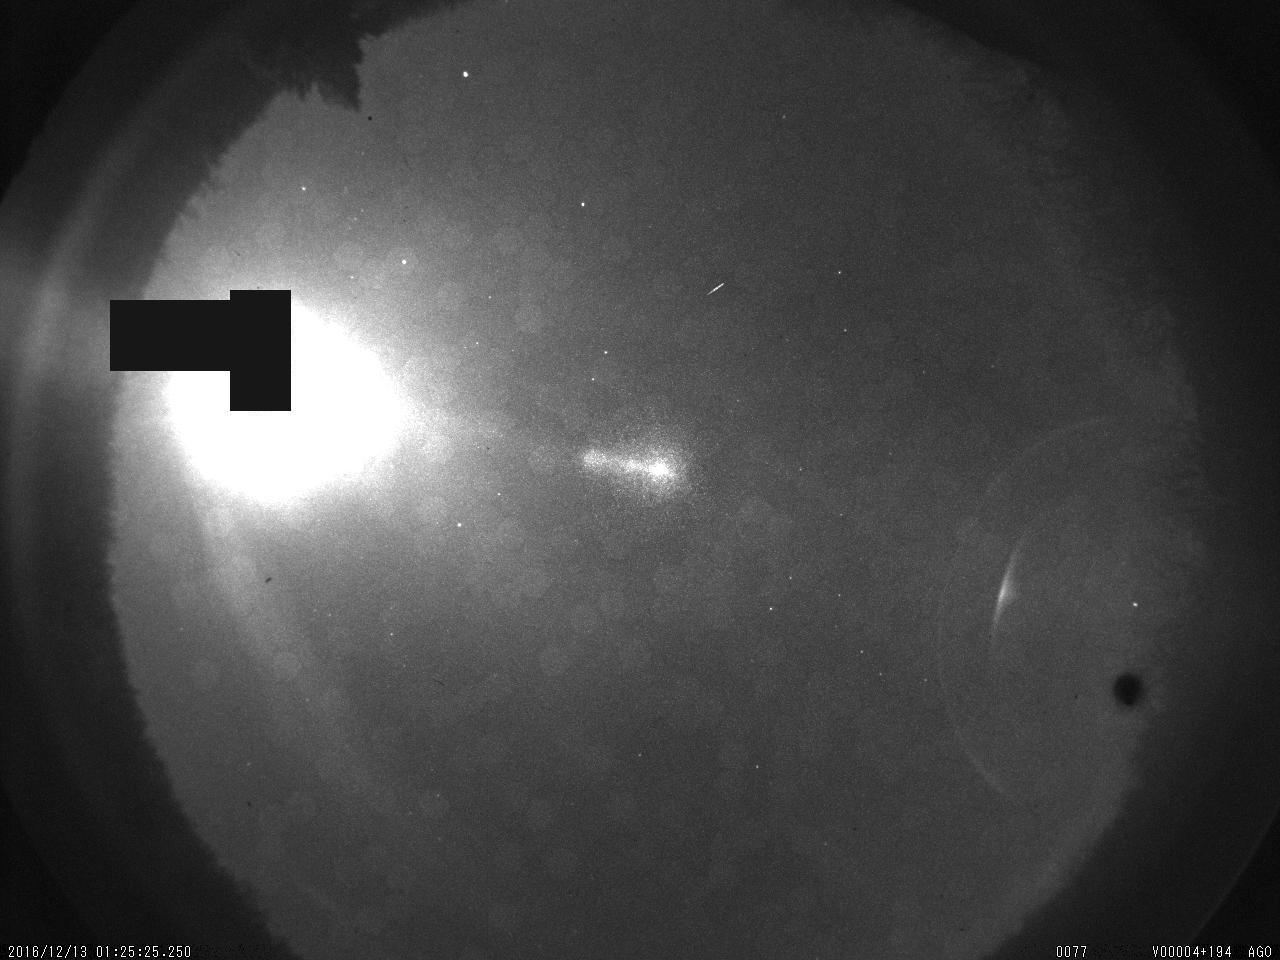Meteor: (698, 274, 734, 302)
